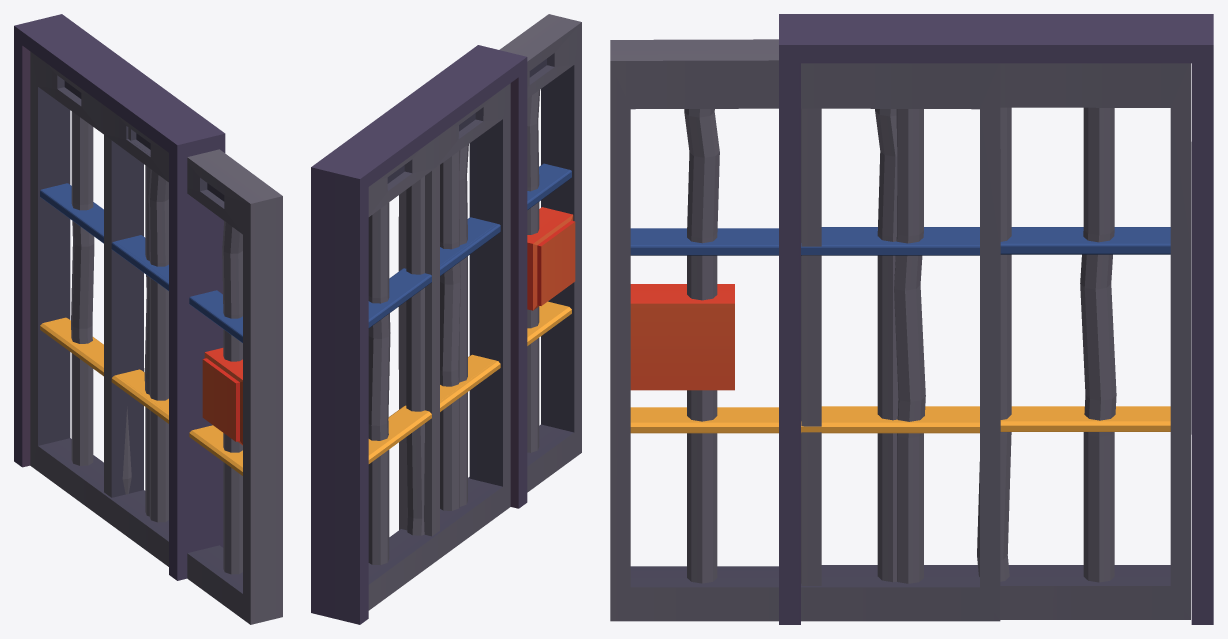
Rendered from jail.fbx.
3 views of the same model, side by side, from view 1: azimuth 30°, elevation 25°; view 2: azimuth 150°, elevation 25°; view 3: azimuth 270°, elevation 25° (orthographic). The views are drawn at different scales.
Parts seen in each view (by area): view 1: jail_door, jail_door_no_lock, jail_door_out; view 2: jail_door_out, jail_door_no_lock, jail_door; view 3: jail_door, jail_door_no_lock, jail_door_out.
Part boxes in pixels (x1,y1,x2,y2): jail_door: (104,127,282,624); jail_door_no_lock: (30,51,168,566); jail_door_out: (14,14,225,580); jail_door_out: (311,45,527,624); jail_door_no_lock: (368,83,510,610); jail_door: (398,14,581,536); jail_door: (610,39,1000,621); jail_door_no_lock: (801,63,1191,619); jail_door_out: (779,14,1213,624).
Size of the model in its own units: 26.88 by 233 by 220.
